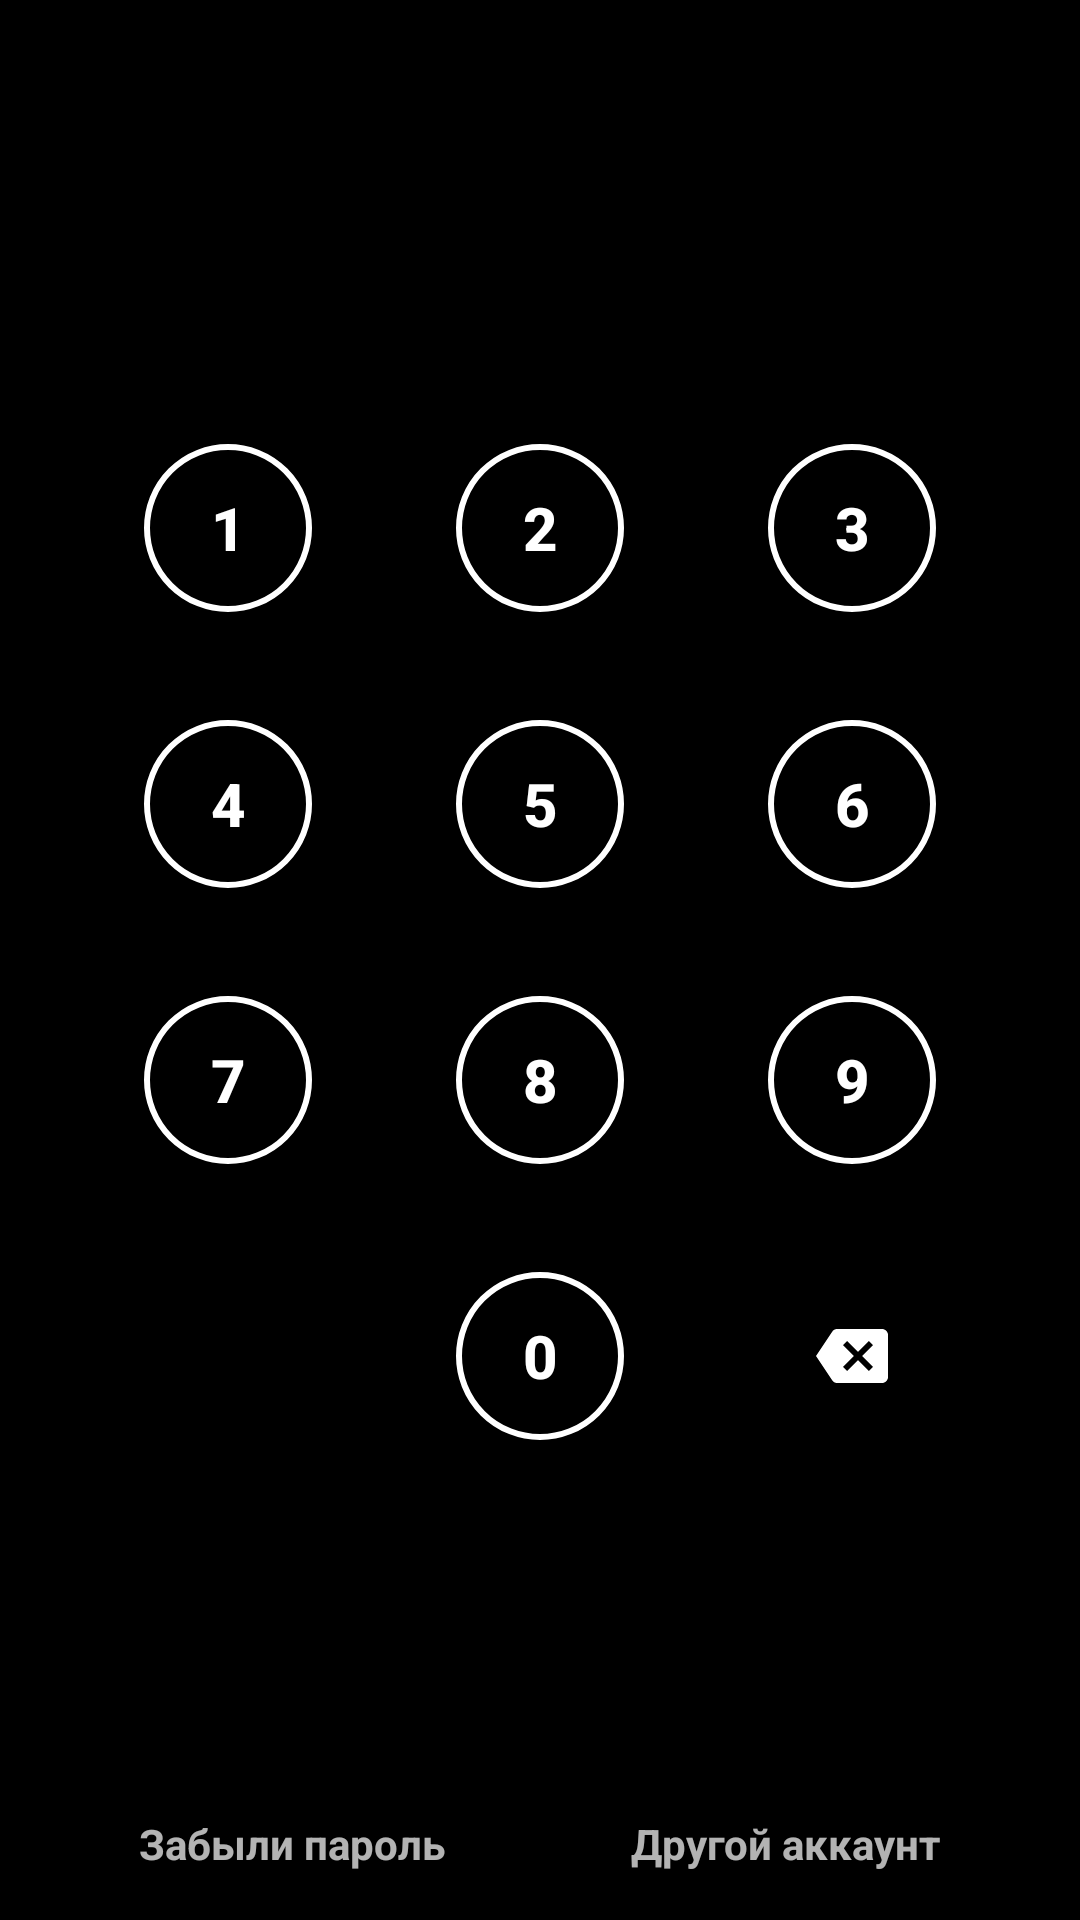

Locate icon controls on the screen. Image size 1080w x 1920h, boxes as (x1, y1, x2, y2).
backspace: (816, 1329, 888, 1383)
